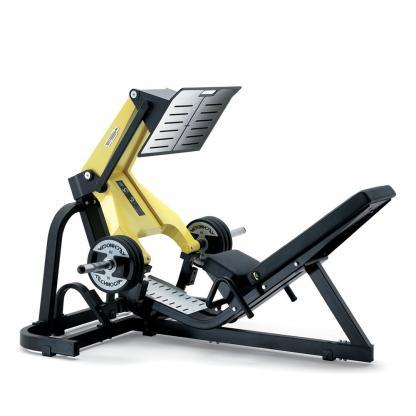leg press: (21, 60, 397, 402)
